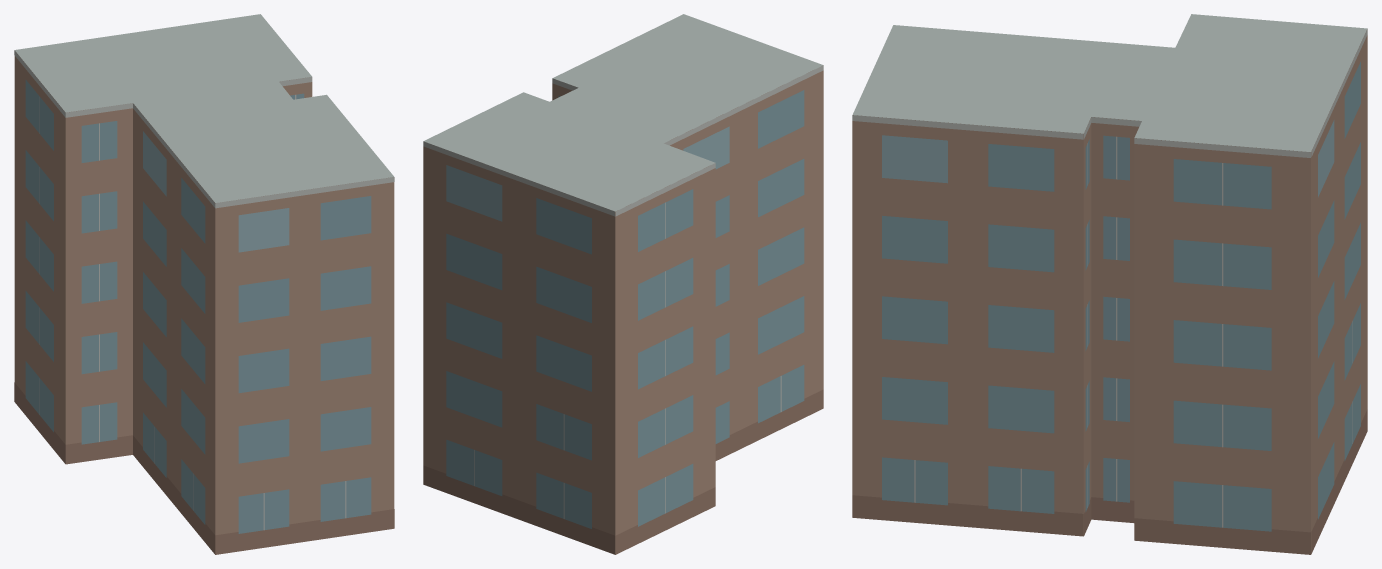
Rendered from survey-upis-32985293.glb.
3 renders of one model, left to right at view 1: azimuth 30°, elevation 25°; view 2: azimuth 150°, elevation 25°; view 3: azimuth 270°, elevation 25°, orthographic. The views are drawn at different scales.
Parts seen in each view (by area): view 1: survey-upis-32985293.tmp; view 2: survey-upis-32985293.tmp; view 3: survey-upis-32985293.tmp.
Part boxes in pixels (x1=…): survey-upis-32985293.tmp: x1=14, y1=14, x2=394, y2=554; survey-upis-32985293.tmp: x1=423, y1=14, x2=823, y2=554; survey-upis-32985293.tmp: x1=852, y1=14, x2=1367, y2=554.
Bounding box in the file's own units: 12.08 × 16.4 × 19.02.
